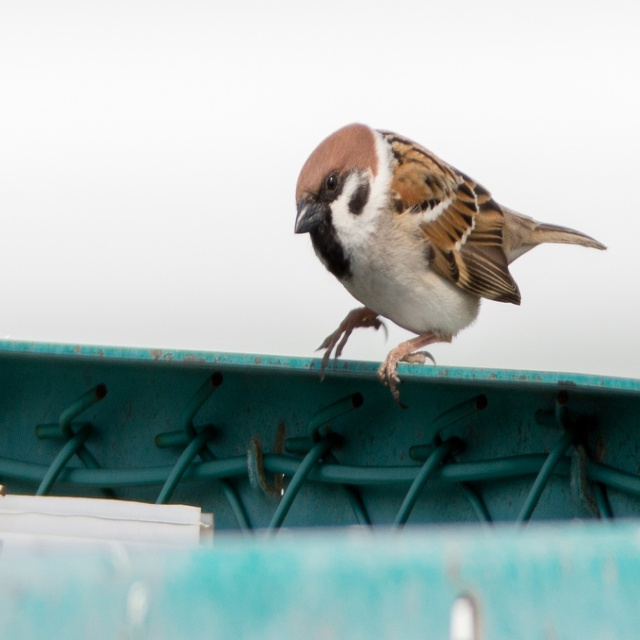Sparrow: (291, 120, 606, 384)
